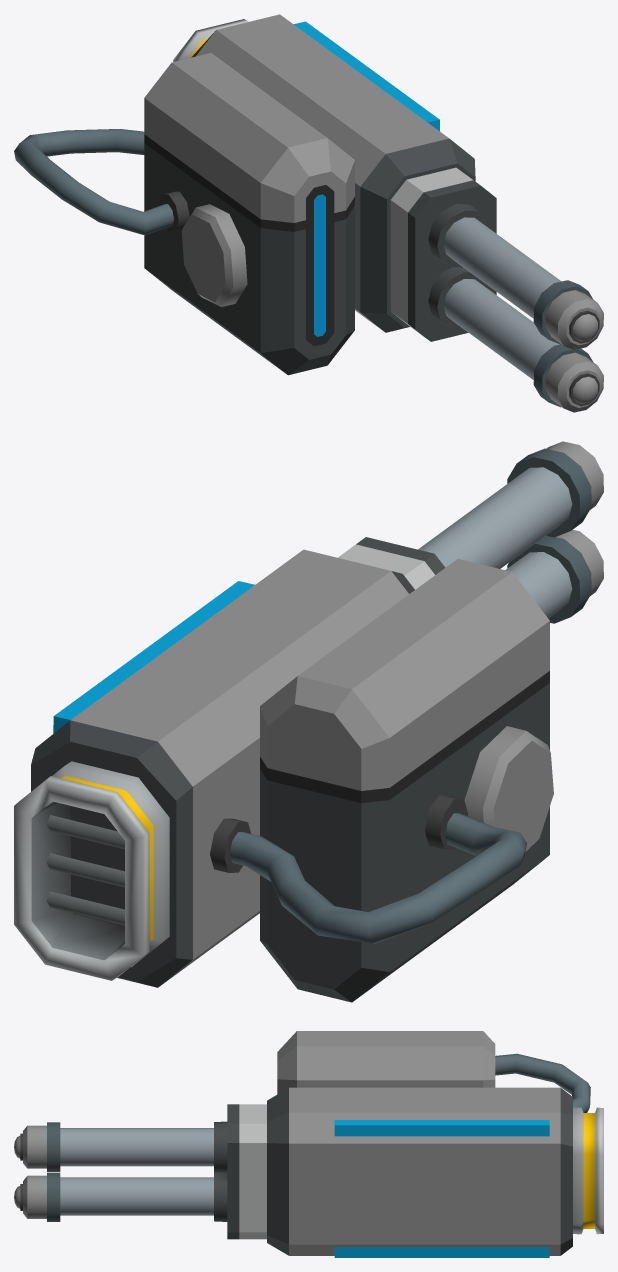
File: Turret_010_Gun_01.fbx
The picture shows the model from 3 angles, top to bottom: view 1: azimuth 30°, elevation 25°; view 2: azimuth 150°, elevation 25°; view 3: azimuth 270°, elevation 25°; orthographic projection. The views are drawn at different scales.
Parts seen in each view (by area): view 1: Turret_010_Gun_01; view 2: Turret_010_Gun_01; view 3: Turret_010_Gun_01.
Boxes of the visible parts, x1,y1,x2,y2 form: Turret_010_Gun_01: (14, 14, 603, 412); Turret_010_Gun_01: (14, 441, 603, 1002); Turret_010_Gun_01: (14, 1031, 603, 1257).
Bounding box in the file's own units: 72.58 × 153 × 52.34.
